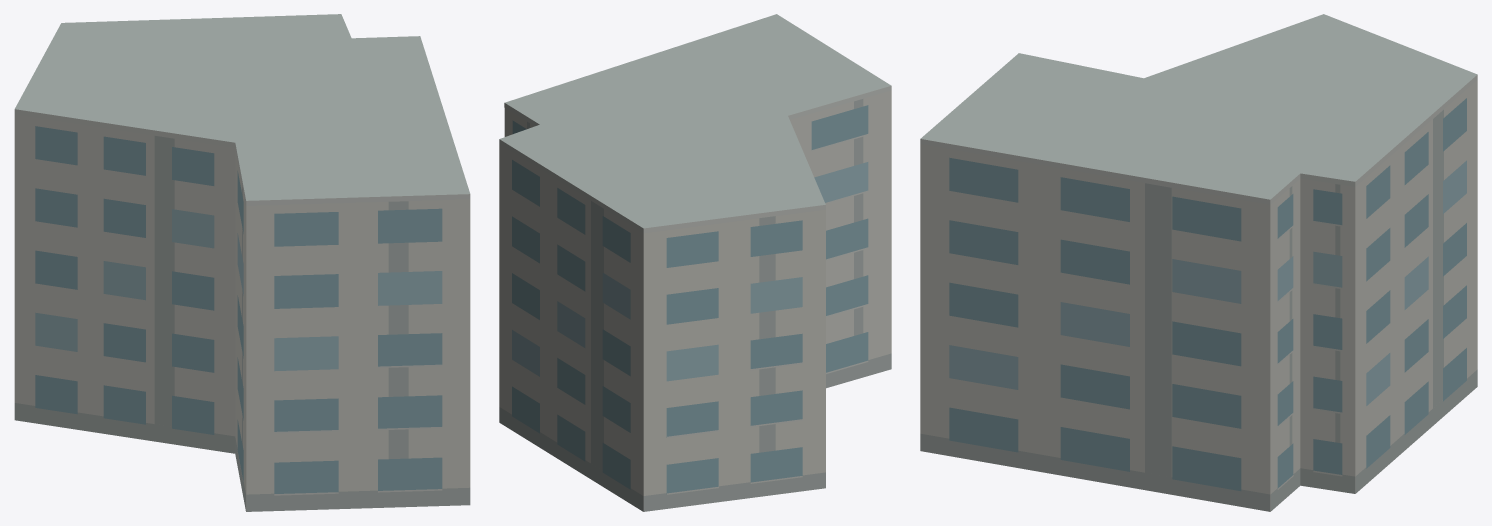
The model's file is survey-upis-32908345.glb.
3 renders of one model, left to right at view 1: azimuth 30°, elevation 25°; view 2: azimuth 150°, elevation 25°; view 3: azimuth 270°, elevation 25°, orthographic. The views are drawn at different scales.
Parts seen in each view (by area): view 1: survey-upis-32908345.tmp; view 2: survey-upis-32908345.tmp; view 3: survey-upis-32908345.tmp.
Boxes of the visible parts, bbox=[...] form: survey-upis-32908345.tmp: bbox=[14, 14, 470, 511]; survey-upis-32908345.tmp: bbox=[499, 14, 891, 511]; survey-upis-32908345.tmp: bbox=[920, 14, 1477, 511].
Size of the model in its own units: 18.38 by 14.4 by 23.31.
